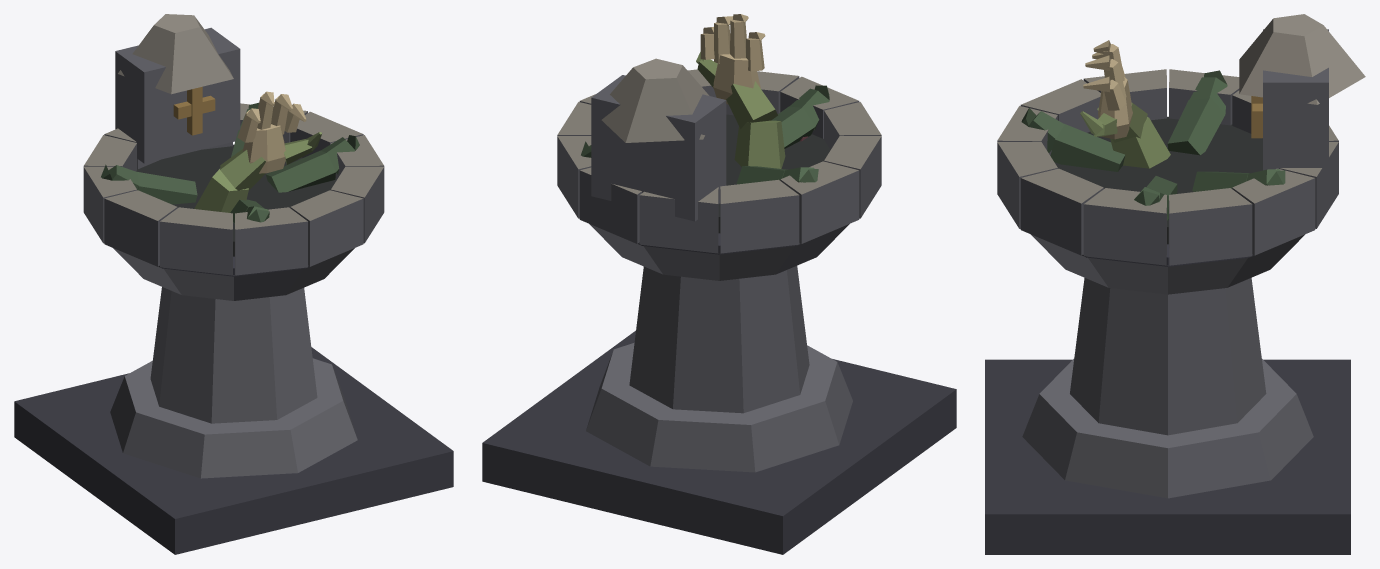
Rendered from font-seep.glb.
3 renders of one model, left to right at view 1: azimuth 30°, elevation 25°; view 2: azimuth 150°, elevation 25°; view 3: azimuth 270°, elevation 25°, orthographic. The views are drawn at different scales.
Parts seen in each view (by area): view 1: Saint Andral’s font · Seep; view 2: Saint Andral’s font · Seep; view 3: Saint Andral’s font · Seep.
Part boxes in pixels (x1,y1,x2,y2): Saint Andral’s font · Seep: (14,14,453,554); Saint Andral’s font · Seep: (482,14,956,554); Saint Andral’s font · Seep: (985,14,1365,554).
Bounding box in the file's own units: 0.91 × 1.24 × 0.947.
